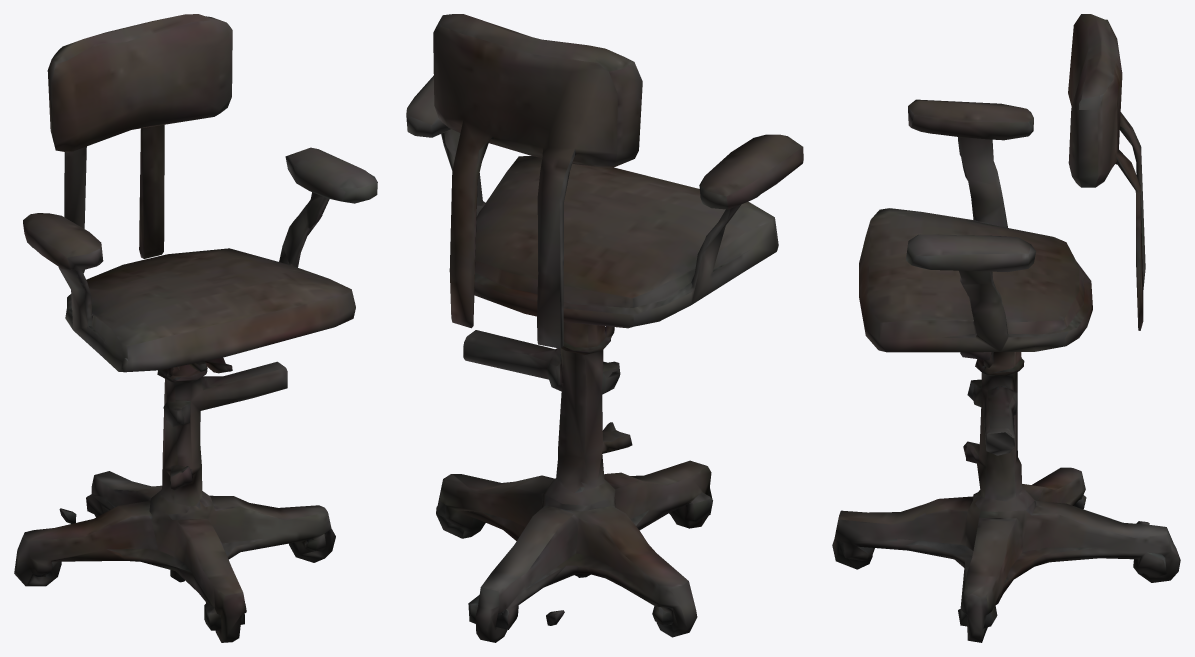
Rendered from old-iron-examination-chair-v001.glb.
3 renders of one model, left to right at view 1: azimuth 30°, elevation 25°; view 2: azimuth 150°, elevation 25°; view 3: azimuth 270°, elevation 25°, orthographic. The views are drawn at different scales.
Visible parts, largest first — view 1: old-iron-examination-chair; view 2: old-iron-examination-chair; view 3: old-iron-examination-chair.
Part boxes in pixels (x1,y1,x2,y2): old-iron-examination-chair: (14, 14, 377, 642); old-iron-examination-chair: (406, 14, 803, 642); old-iron-examination-chair: (832, 14, 1180, 642).
Size of the model in its own units: 0.8127 by 1.27 by 0.7496.
1 material, 1 textured.
